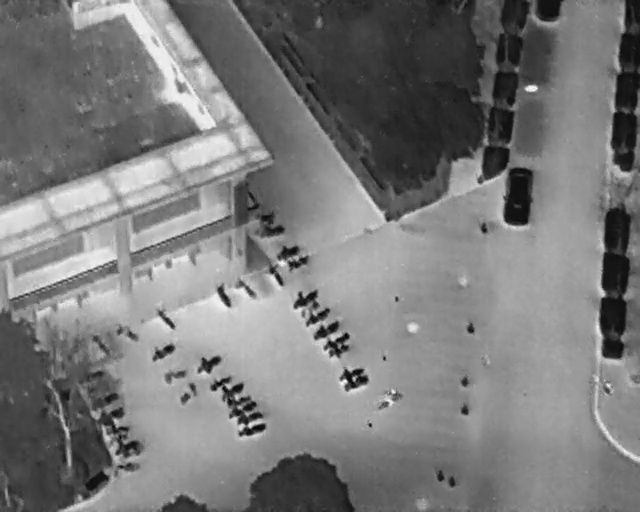Bicycle: (190, 348, 226, 381), (370, 383, 406, 415), (316, 326, 354, 356), (307, 314, 344, 344), (215, 374, 248, 405), (145, 336, 179, 366), (287, 283, 322, 312), (299, 302, 334, 331), (110, 434, 146, 462), (173, 378, 203, 410), (223, 397, 261, 422), (234, 417, 269, 442), (340, 369, 372, 396), (94, 403, 128, 428), (87, 388, 122, 412), (159, 362, 190, 389), (335, 359, 367, 385), (232, 406, 266, 430), (233, 274, 260, 302), (213, 279, 236, 311), (153, 305, 179, 333), (273, 240, 303, 264), (282, 250, 313, 273), (88, 332, 113, 360), (206, 370, 234, 395), (101, 419, 132, 441), (324, 340, 353, 363), (223, 391, 254, 411), (113, 323, 141, 345), (74, 368, 104, 386), (267, 263, 286, 290), (112, 460, 142, 477), (297, 297, 322, 317), (258, 223, 286, 239), (255, 209, 278, 225)
Car: (499, 164, 537, 228), (532, 0, 563, 24)
Person: (601, 379, 616, 397)
